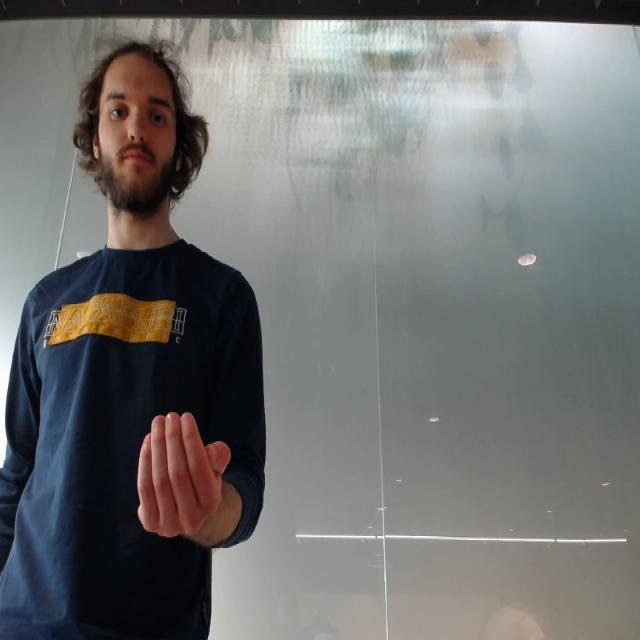forward: (130, 409, 236, 538)
